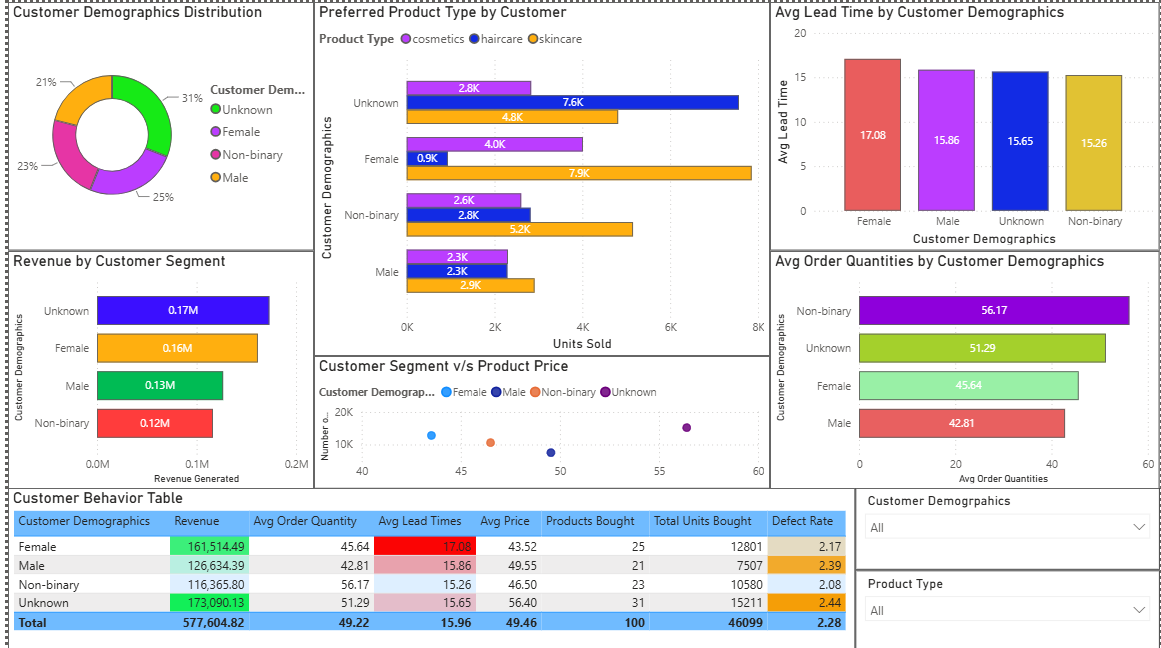

What the dashboard file says about the page in this screenshot:
{"tool":"powerbi","page":{"name":"Customer Insights","canvas":[1280,720],"ordinal":4},"visuals":[{"type":"donutChart","title":"Customer Demographics Distribution","fields":{"Category":["supply_chain_table.Customer_demographics"],"Y":["CountNonNull(supply_chain_table.Customer_demographics)"]},"box":[0,0,340.2,275.9],"z":0},{"type":"barChart","title":"Revenue by Customer Segment","fields":{"Category":["supply_chain_table.Customer_demographics"],"Y":["Sum(supply_chain_table.Revenue_generated)"]},"box":[0,275.9,340.2,264.6],"z":1000},{"type":"clusteredBarChart","title":"Preferred Product Type by Customer","fields":{"Category":["supply_chain_table.Customer_demographics"],"Y":["Sum(supply_chain_table.Number_of_products_sold)"],"Series":["supply_chain_table.Product_type"]},"box":[340.2,0,506.5,393.1],"z":2000},{"type":"clusteredColumnChart","fields":{"Category":["supply_chain_table.Customer_demographics"],"Y":["Avg(supply_chain_table.Lead_times)"]},"box":[846.6,0,432.8,275.9],"z":3000},{"type":"barChart","fields":{"Category":["supply_chain_table.Customer_demographics"],"Y":["Avg(supply_chain_table.Order_quantities)"]},"box":[846.6,275.9,432.8,264.6],"z":4000},{"type":"scatterChart","title":"Customer Segment v/s Product Price","fields":{"X":["Avg(supply_chain_table.Price)"],"Y":["Sum(supply_chain_table.Number_of_products_sold)"],"Series":["supply_chain_table.Customer_demographics"]},"box":[340.2,393.1,506.5,147.4],"z":5000},{"type":"tableEx","title":"Customer Behavior Table","fields":{"Values":["supply_chain_table.Customer_demographics","Sum(supply_chain_table.Revenue_generated)","Avg(supply_chain_table.Order_quantities)","Avg(supply_chain_table.Lead_times)","Avg(supply_chain_table.Price)","supply_chain_table.SKU","Sum(supply_chain_table.Number_of_products_sold)","Avg(supply_chain_table.Defect_rates)"]},"box":[0,540.5,941.1,179.5],"z":6000},{"type":"slicer","fields":{"Values":["supply_chain_table.Customer_demographics"]},"box":[941.1,540.5,338.3,90.7],"z":7000},{"type":"slicer","fields":{"Values":["supply_chain_table.Product_type"]},"box":[941.1,631.2,338.3,88.8],"z":8000}]}

Visuals, with their boxes in screenshot pixels (x1, y1, x2, y2), scaled from the page's 1280x720 canvas onto the 1161x648 screenshot:
"Customer Demographics Distribution" donutChart: [0, 0, 309, 248]
"Revenue by Customer Segment" barChart: [0, 248, 309, 486]
"Preferred Product Type by Customer" clusteredBarChart: [309, 0, 768, 354]
clusteredColumnChart - supply_chain_table.Customer_demographics x Avg(supply_chain_table.Lead_times): [768, 0, 1160, 248]
barChart - supply_chain_table.Customer_demographics x Avg(supply_chain_table.Order_quantities): [768, 248, 1160, 486]
"Customer Segment v/s Product Price" scatterChart: [309, 354, 768, 486]
"Customer Behavior Table" tableEx: [0, 486, 854, 647]
slicer - supply_chain_table.Customer_demographics: [854, 486, 1160, 568]
slicer - supply_chain_table.Product_type: [854, 568, 1160, 647]
